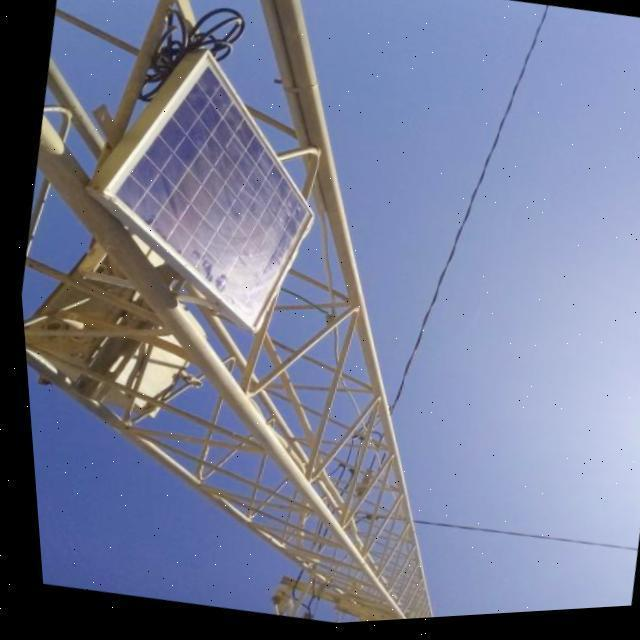Normal Solar Panel: (70, 32, 346, 348)
